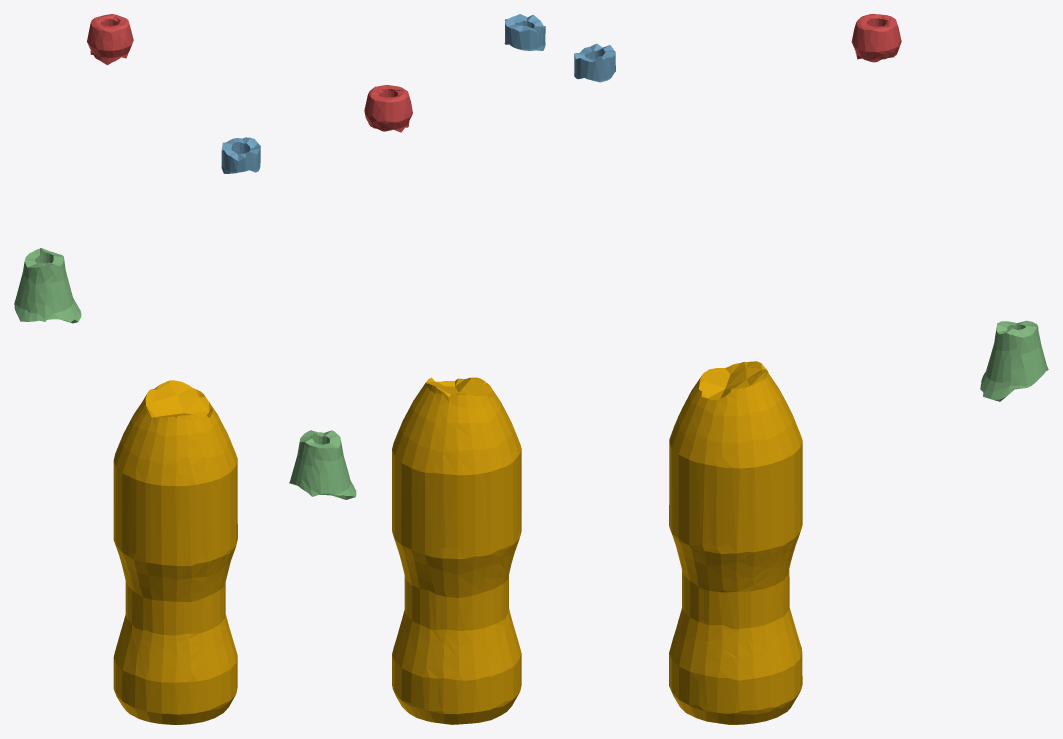
The model's file is fractured_21_4pcs_transformed.glb.
3 views of the same model, side by side, from view 1: azimuth 30°, elevation 25°; view 2: azimuth 150°, elevation 25°; view 3: azimuth 270°, elevation 25° (orthographic). The views are drawn at different scales.
Parts seen in each view (by area): view 1: piece_0.obj, piece_3.obj, piece_1.obj, piece_2.obj; view 2: piece_0.obj, piece_3.obj, piece_1.obj, piece_2.obj; view 3: piece_0.obj, piece_3.obj, piece_1.obj, piece_2.obj.
Part boxes in pixels (left/top/right/bottom): piece_0.obj: left=113, top=380, right=237, bottom=724; piece_3.obj: left=14, top=248, right=81, bottom=323; piece_1.obj: left=87, top=14, right=133, bottom=65; piece_2.obj: left=221, top=137, right=260, bottom=173; piece_0.obj: left=392, top=377, right=521, bottom=724; piece_3.obj: left=289, top=430, right=356, bottom=499; piece_1.obj: left=364, top=85, right=412, bottom=132; piece_2.obj: left=504, top=14, right=545, bottom=50; piece_0.obj: left=669, top=361, right=802, bottom=724; piece_3.obj: left=980, top=320, right=1048, bottom=401; piece_1.obj: left=851, top=14, right=901, bottom=62; piece_2.obj: left=574, top=43, right=615, bottom=82.
Size of the model in its own units: 0.2848 by 1.6 by 1.01.
